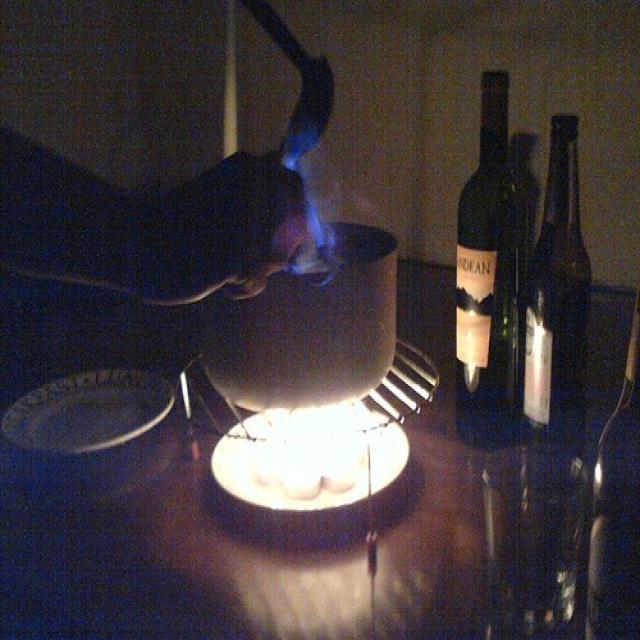bottle: (453, 65, 527, 449), (527, 109, 594, 456), (592, 282, 638, 638)
